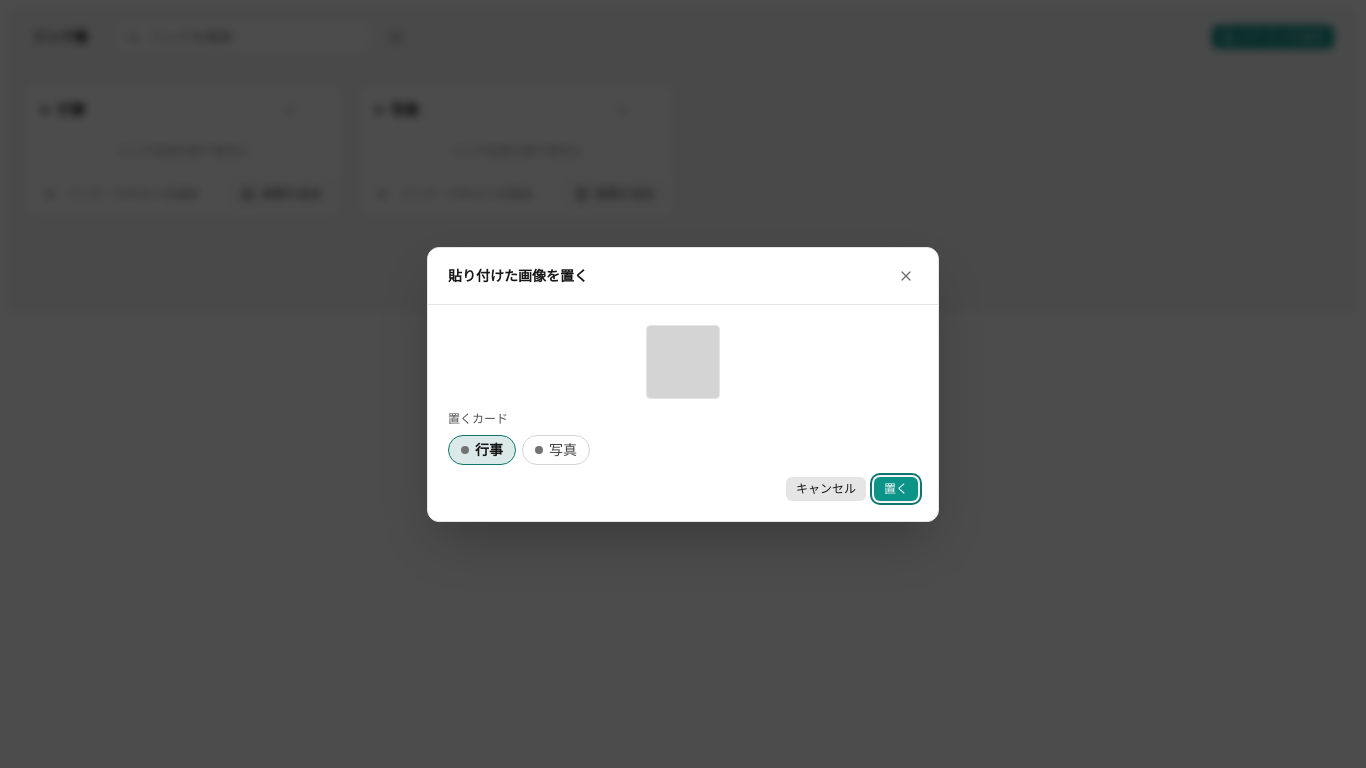
Test: どこでも貼り付け（pasteImagesAnywhere） › 失敗したら、選ぶ画面にエラーを出したままにする
Expected: the element "行事" is shown, top-left (24, 83), bottom-right (342, 217)
Click the button "置く": (896, 488) top-left (874, 476), bottom-right (918, 500)
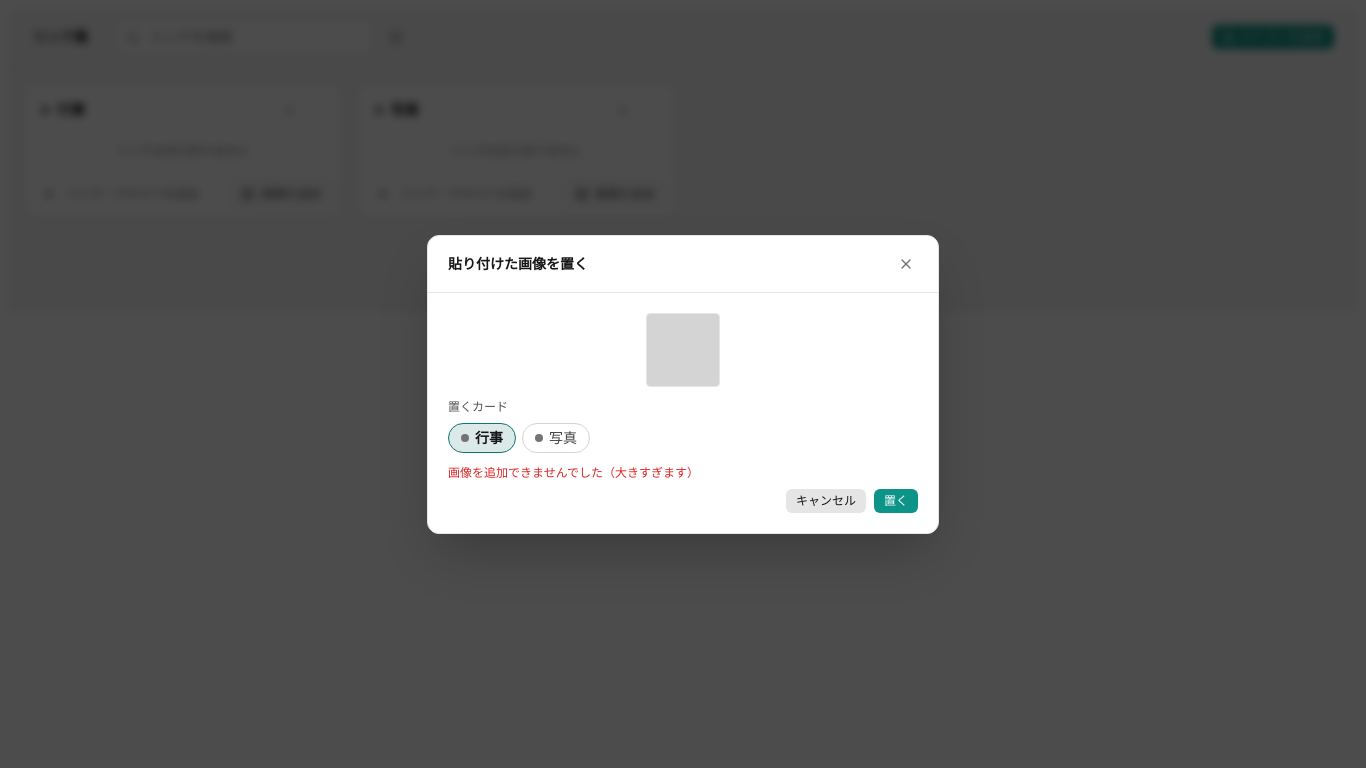
Now the message reads "画像を追加できませんでした（大きすぎます）", box top-left (448, 464), bottom-right (699, 480)
